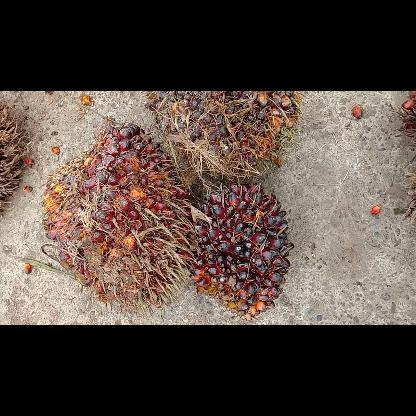Kurang masak: (190, 181, 294, 318), (145, 90, 303, 174)
TBS masak: (42, 118, 193, 310)
